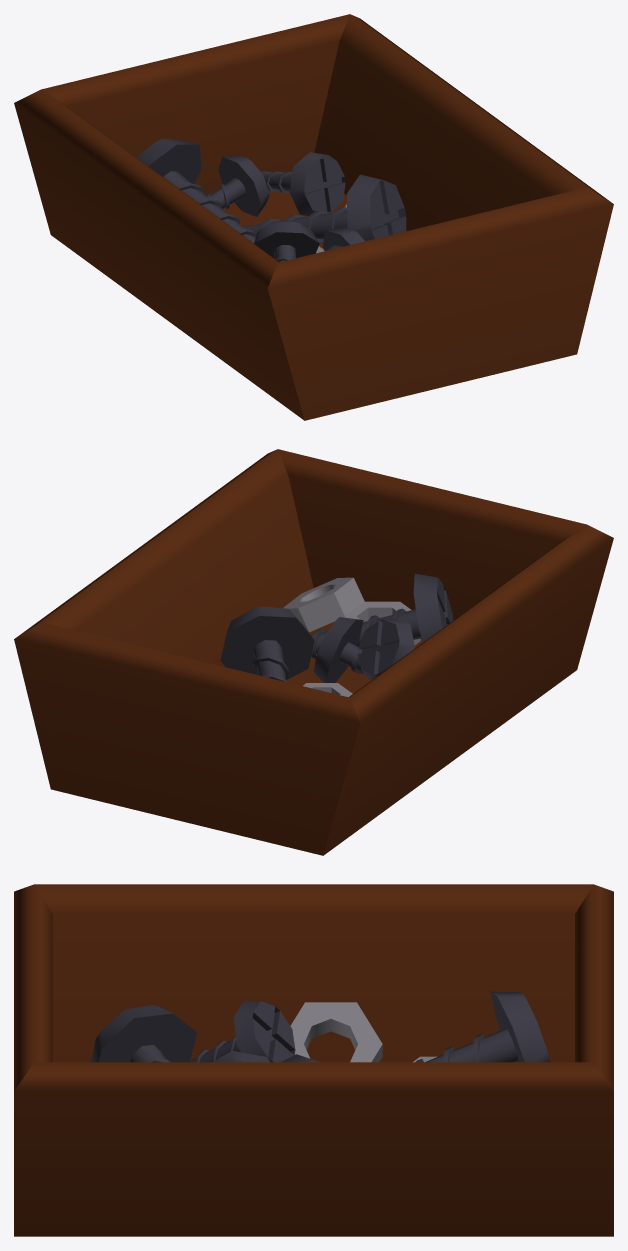
The model's file is Box_of_screws.fbx.
3 renders of one model, top to bottom at view 1: azimuth 30°, elevation 25°; view 2: azimuth 150°, elevation 25°; view 3: azimuth 270°, elevation 25°, orthographic. The views are drawn at different scales.
Parts seen in each view (by area): view 1: Box_of_screws; view 2: Box_of_screws; view 3: Box_of_screws.
Boxes of the visible parts, x1,y1,x2,y2 form: Box_of_screws: (14,14,613,420); Box_of_screws: (14,449,613,855); Box_of_screws: (14,884,613,1236).
Bounding box in the file's own units: 22.2 × 28.19 × 9.58.
